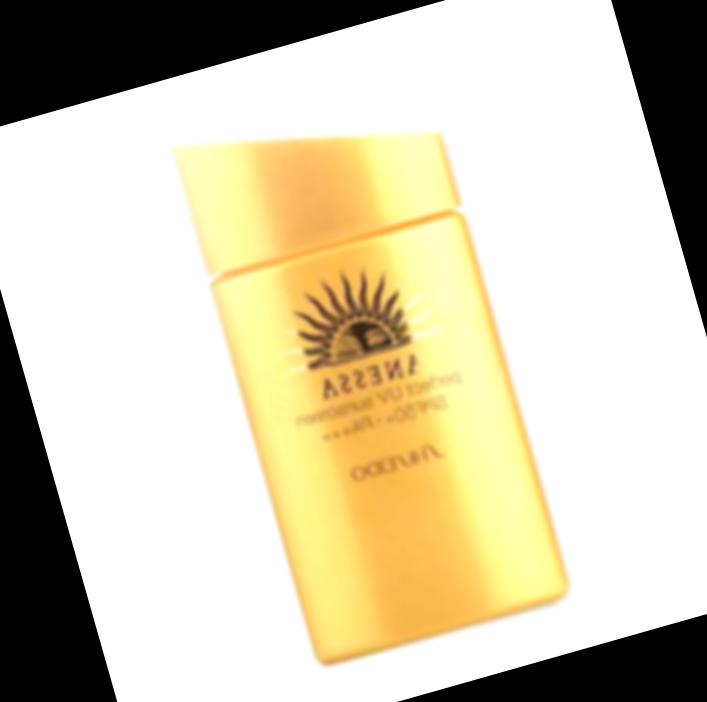cosmetic: (165, 58, 570, 667)
